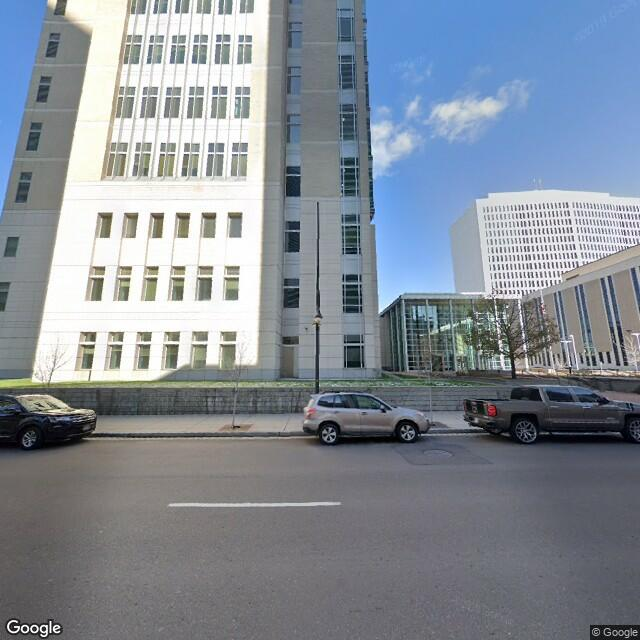lamp: (306, 192, 325, 392)
